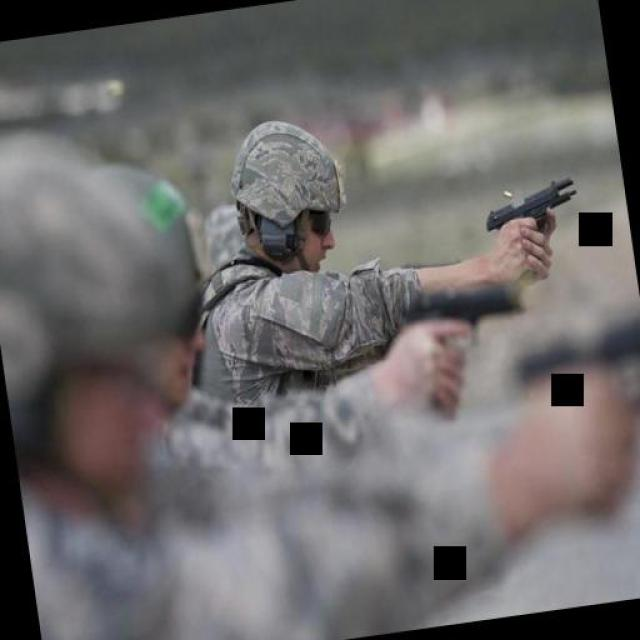gun: (400, 267, 526, 335), (478, 172, 584, 248)
